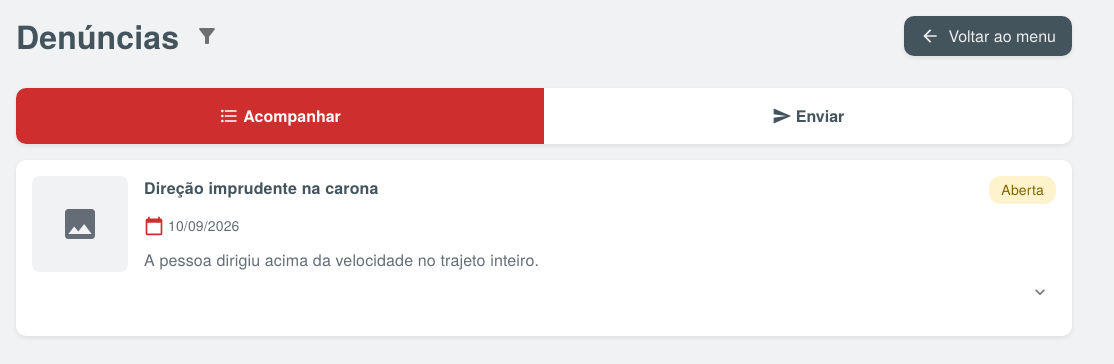
Reports › should offer the expansion only when the description does not fit
This screenshot has width=1114, height=364.
Expected: the text "A pessoa dirigiu acima da velocidade no trajeto inteiro." is shown, [144,248,539,271]
Click the button named "Expandir descrição".
click(1040, 292)  # box [1024,276,1056,308]
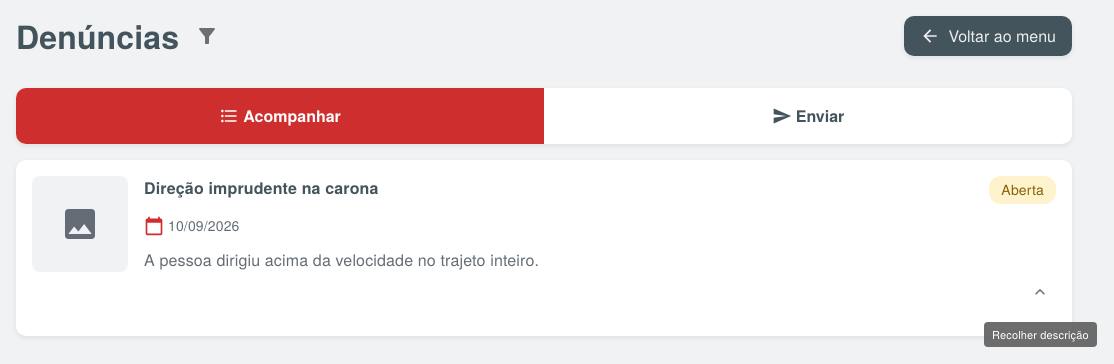
Expected: the button named "Recolher descrição" is shown, [1024,276,1056,308]
